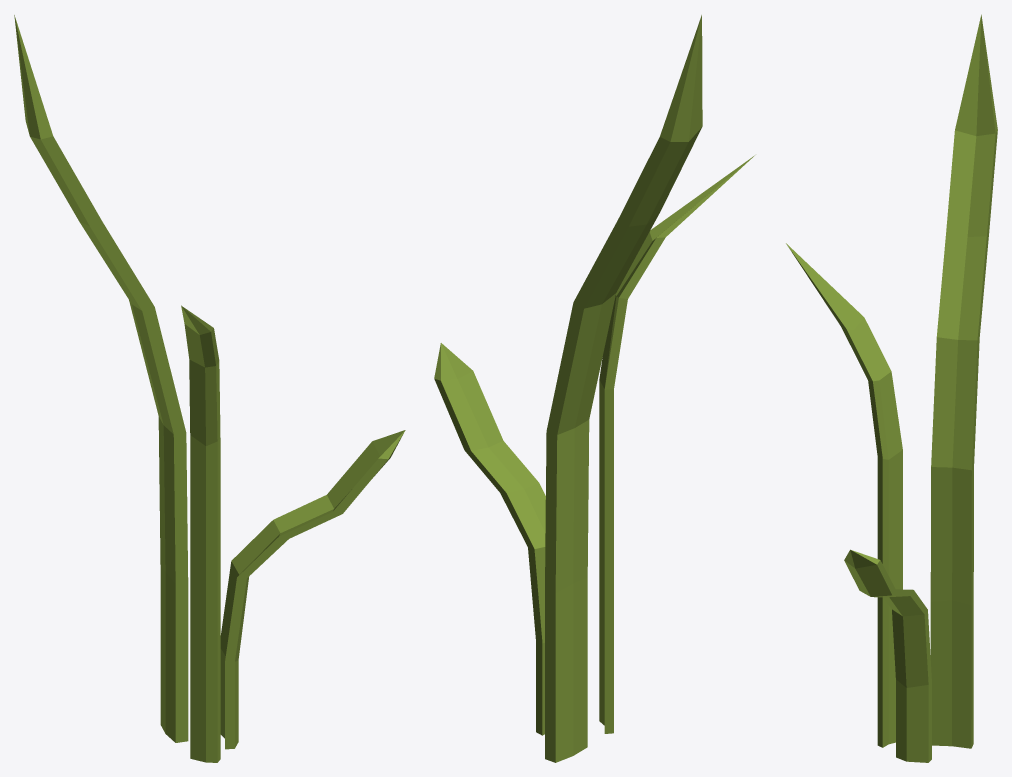
The model's file is Reed_2b.fbx.
3 renders of one model, left to right at view 1: azimuth 30°, elevation 25°; view 2: azimuth 150°, elevation 25°; view 3: azimuth 270°, elevation 25°, orthographic. The views are drawn at different scales.
Parts seen in each view (by area): view 1: Cube.001; view 2: Cube.001; view 3: Cube.001.
Part boxes in pixels (x1,y1,x2,y2): Cube.001: (14, 15, 405, 762); Cube.001: (434, 15, 754, 762); Cube.001: (786, 14, 997, 762).
Bounding box in the file's own units: 37.03 × 82.45 × 23.82.
